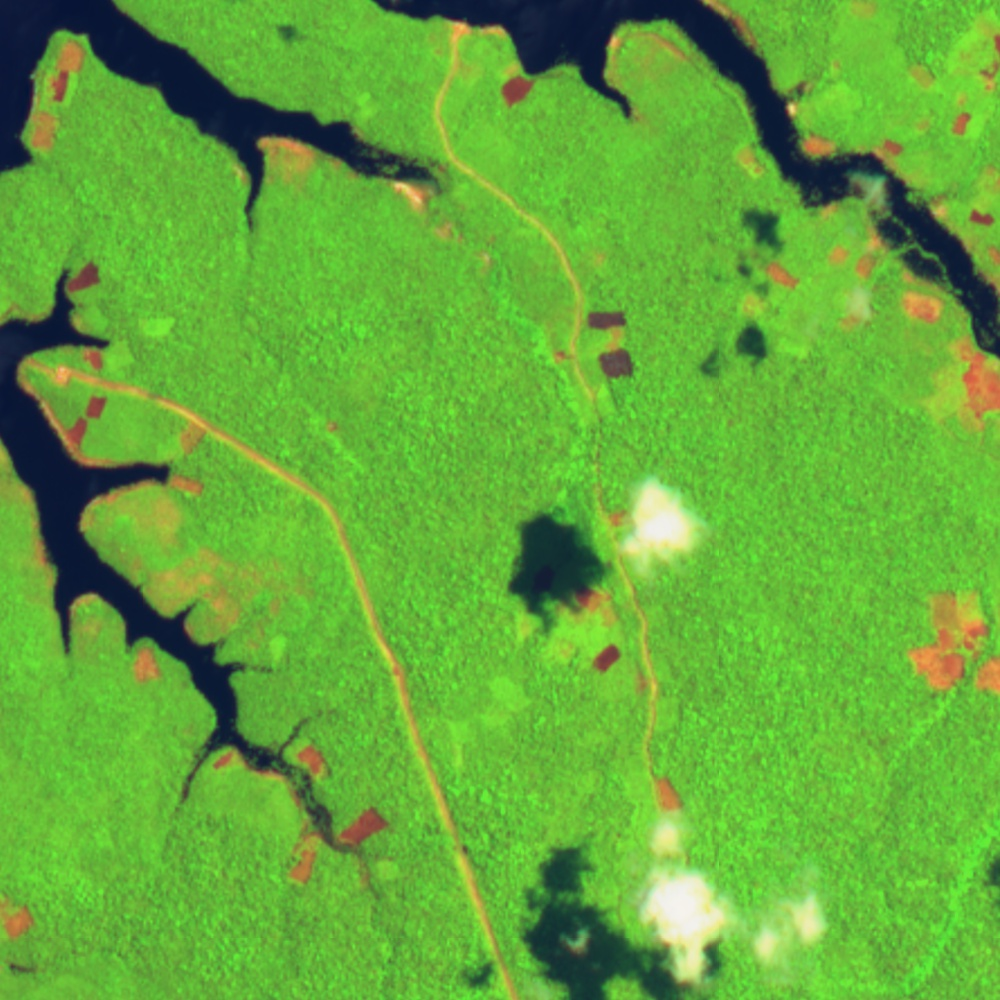legal: (203, 743, 396, 894), (739, 242, 954, 324), (149, 559, 287, 675), (521, 580, 652, 699), (45, 258, 109, 455), (904, 585, 1000, 694), (909, 29, 1000, 140), (928, 159, 1000, 273), (23, 37, 93, 154), (550, 305, 637, 386), (387, 163, 461, 255), (781, 76, 846, 166), (947, 333, 1000, 434), (76, 470, 170, 525), (167, 410, 214, 503), (1, 896, 44, 986), (702, 1, 765, 55), (124, 639, 170, 686), (494, 61, 540, 107), (731, 134, 775, 181), (73, 445, 149, 470), (870, 137, 912, 181), (447, 18, 514, 44), (596, 493, 639, 532), (651, 769, 685, 813)
